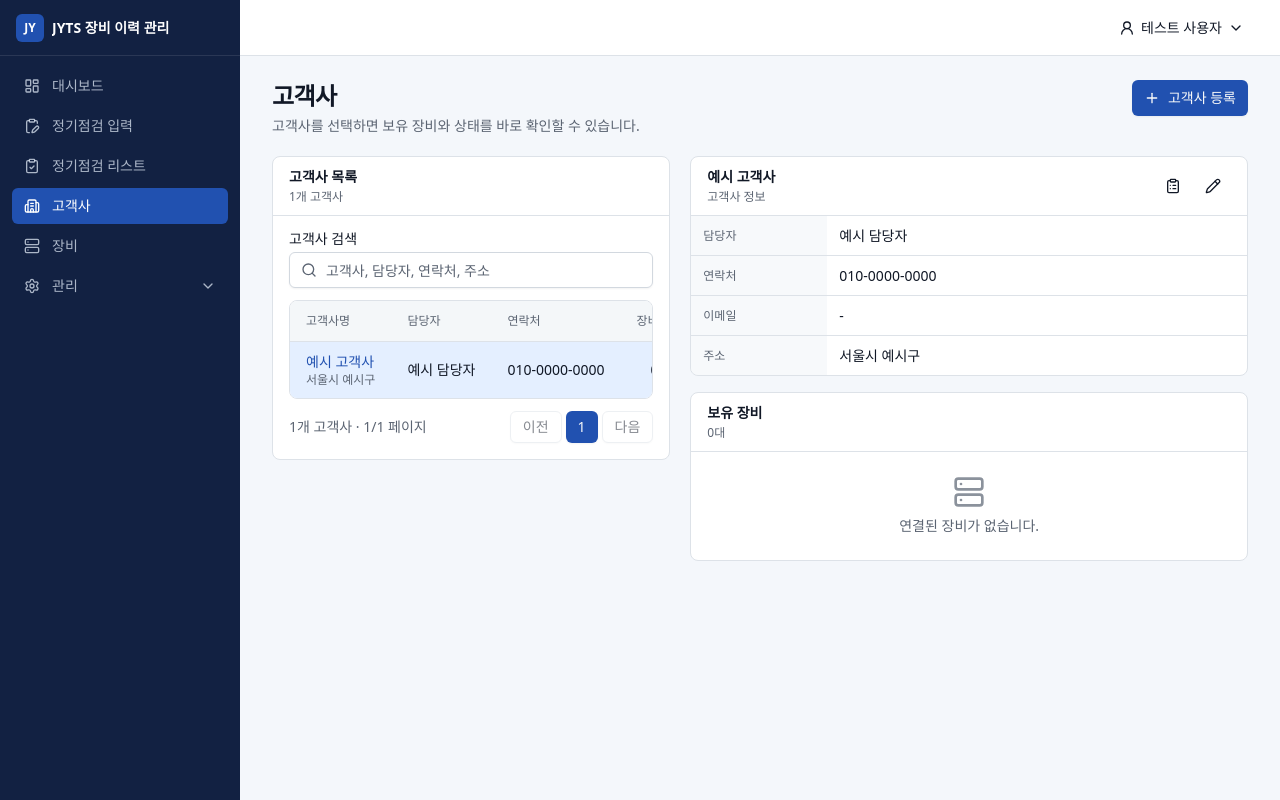
it: organization page › opens the customer edit form in a dialog
Click the button named "예시 고객사 수정" at (1213, 186), box x1=1195 y1=168 x2=1231 y2=204
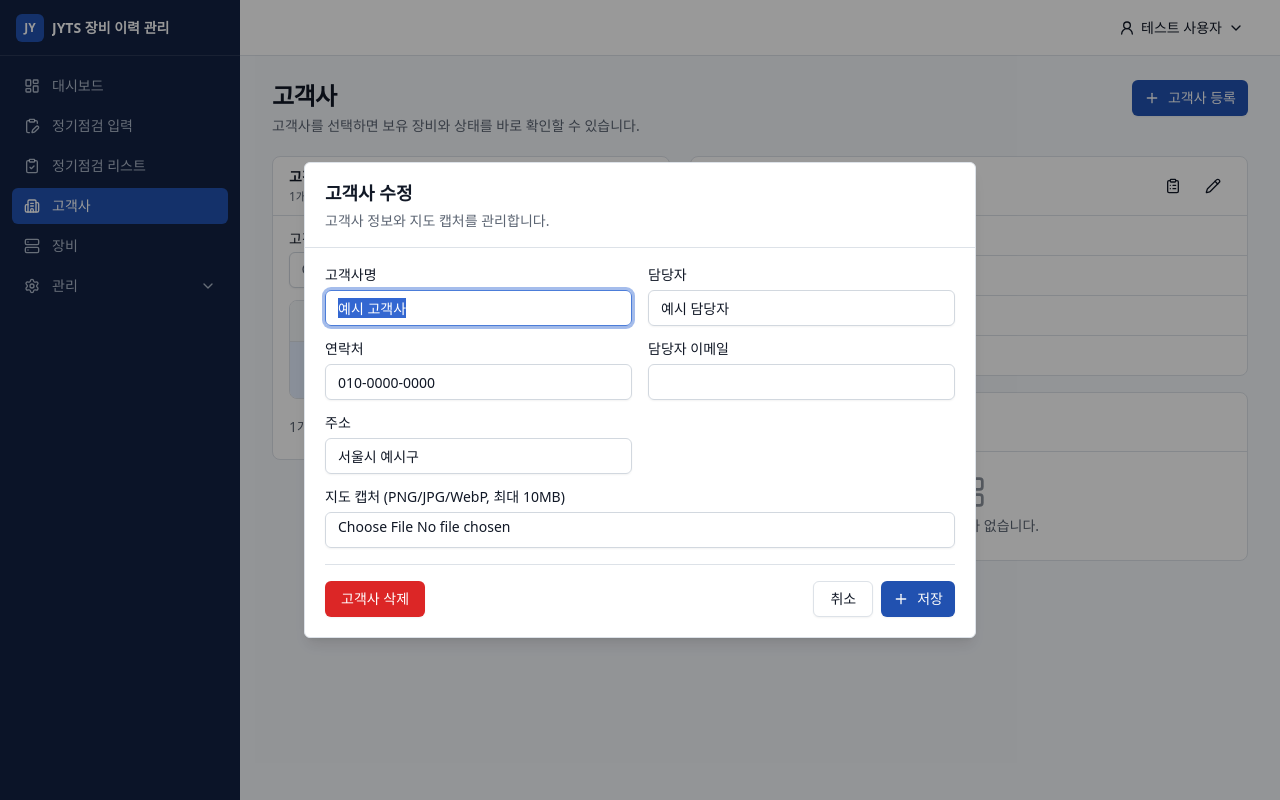
Expected: the dialog is shown, x1=304 y1=162 x2=976 y2=638
Expected: the field labelled "고객사명" holds "예시 고객사", x1=325 y1=290 x2=632 y2=326
